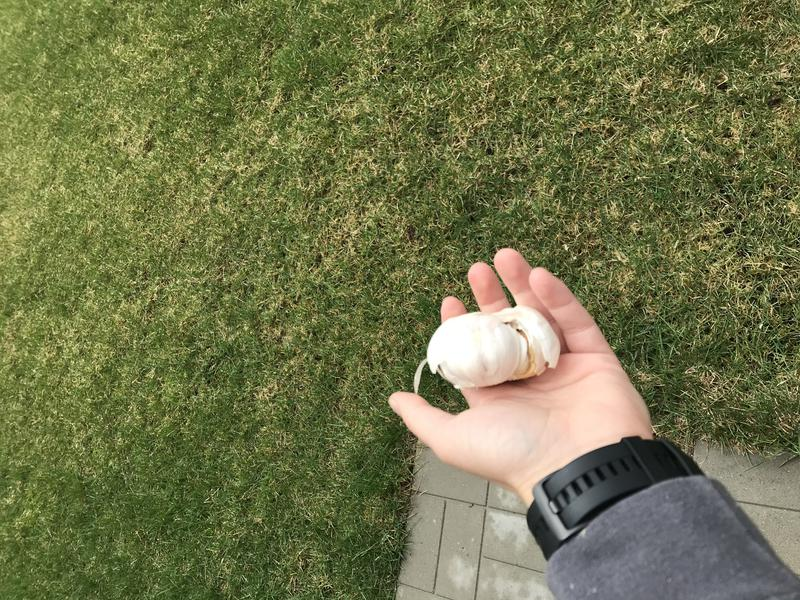garlic: (416, 311, 555, 386)
